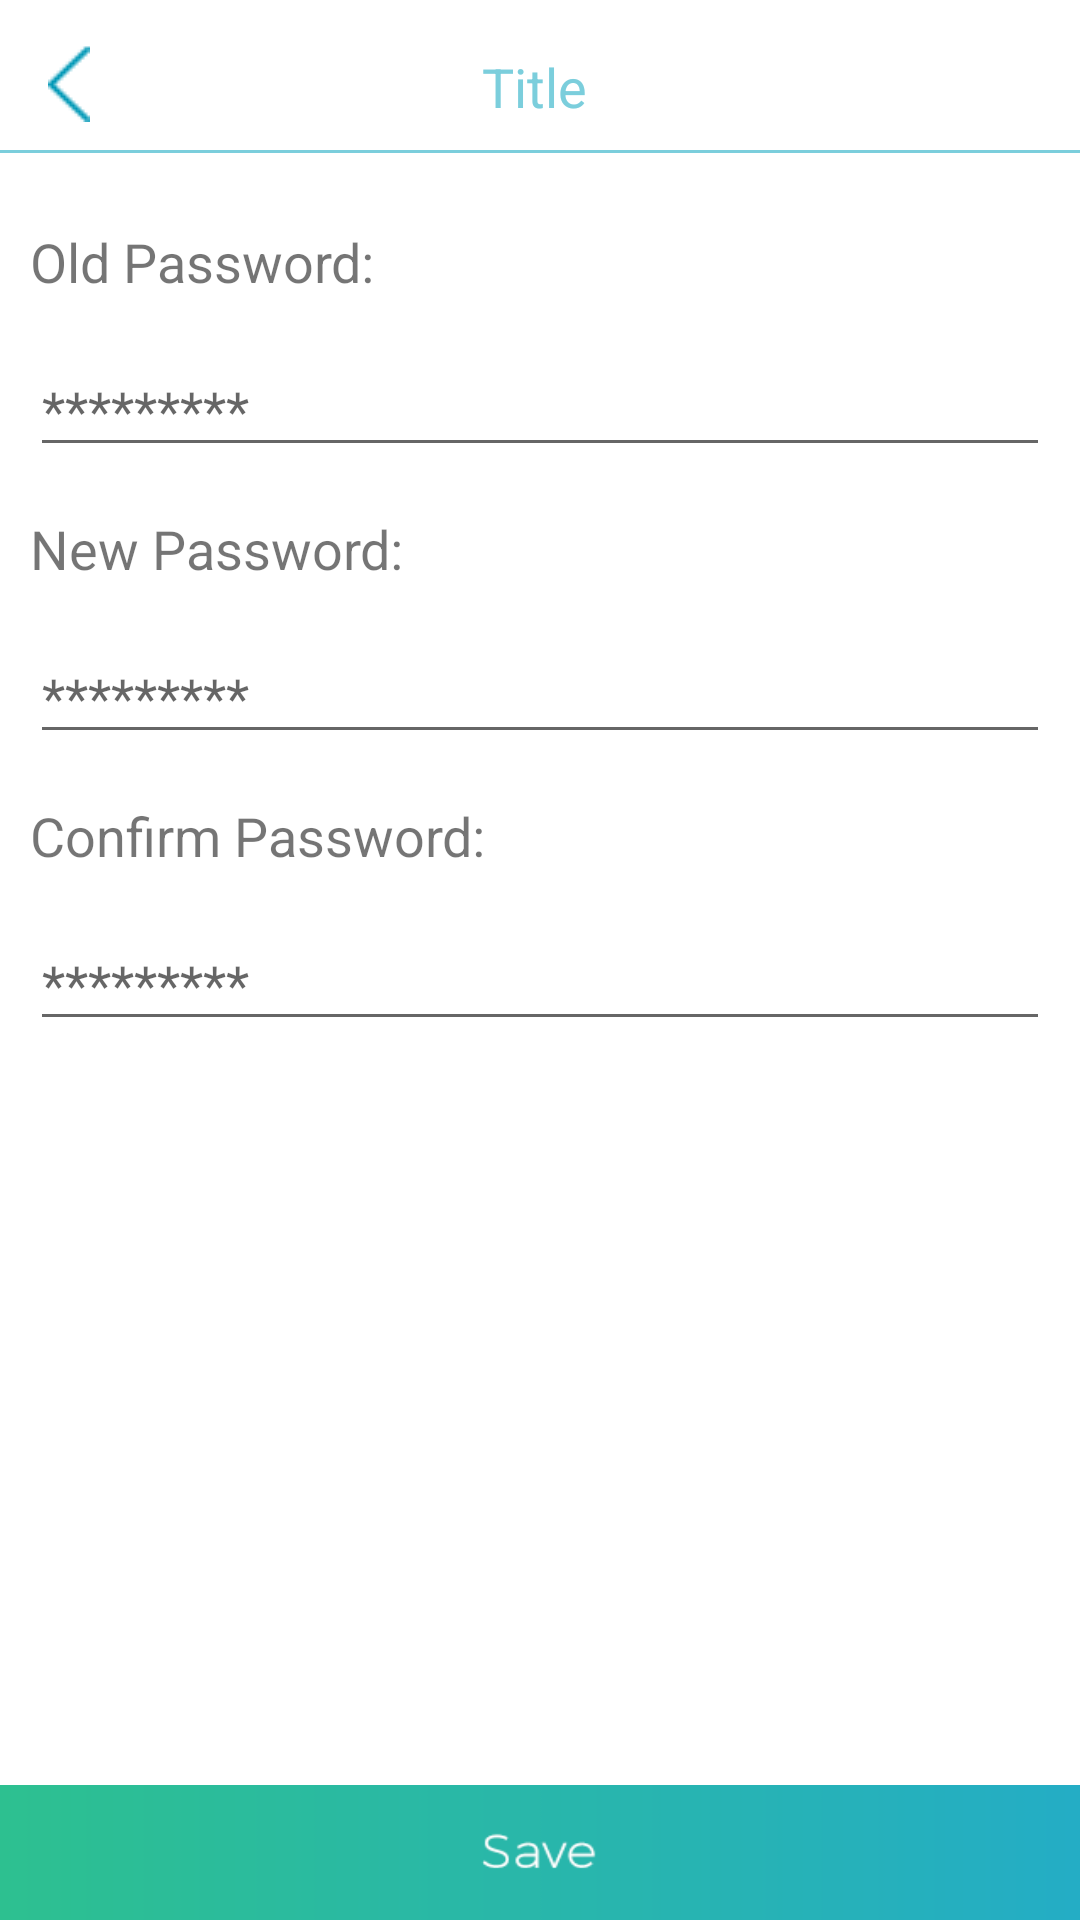

Where to tap for icons on this 1080×1920 app screen, as (x,y):
left arrow: (69,84)
